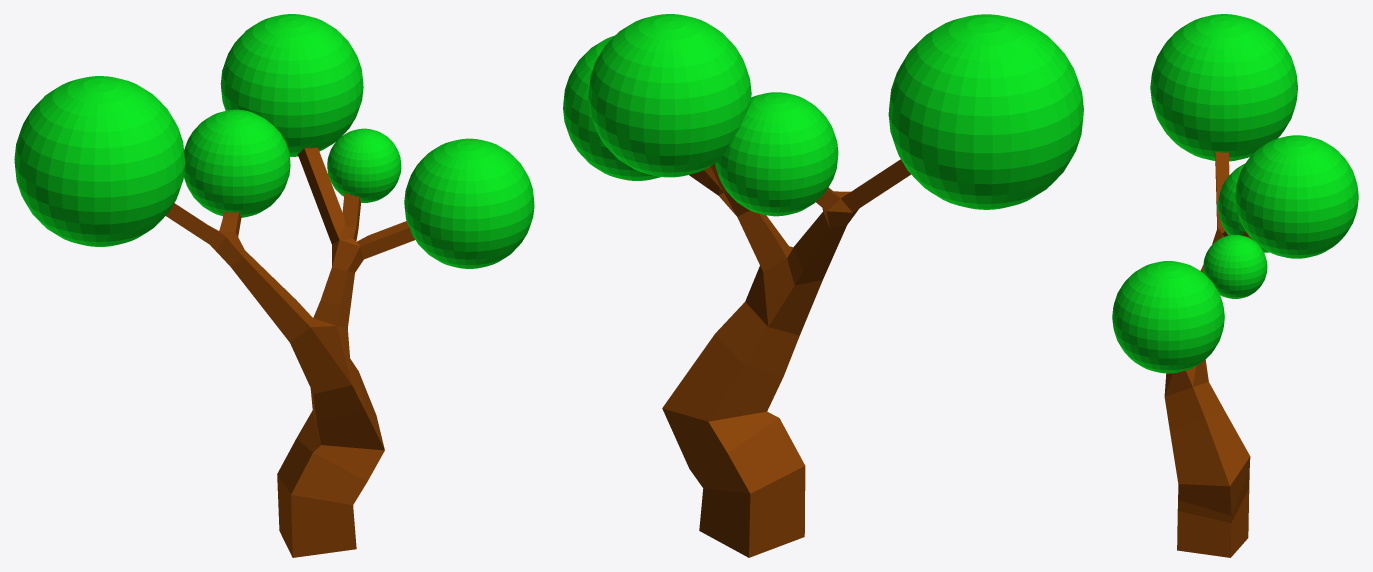
File: tree0.fbx
3 views of the same model, side by side, from view 1: azimuth 30°, elevation 25°; view 2: azimuth 150°, elevation 25°; view 3: azimuth 270°, elevation 25° (orthographic). The views are drawn at different scales.
Parts seen in each view (by area): view 1: Cube; view 2: Cube; view 3: Cube.
Boxes of the visible parts, x1,y1,x2,y2 form: Cube: (14, 14, 534, 557); Cube: (563, 14, 1083, 557); Cube: (1112, 14, 1358, 557).
Size of the model in its own units: 1754 by 1807 by 927.
